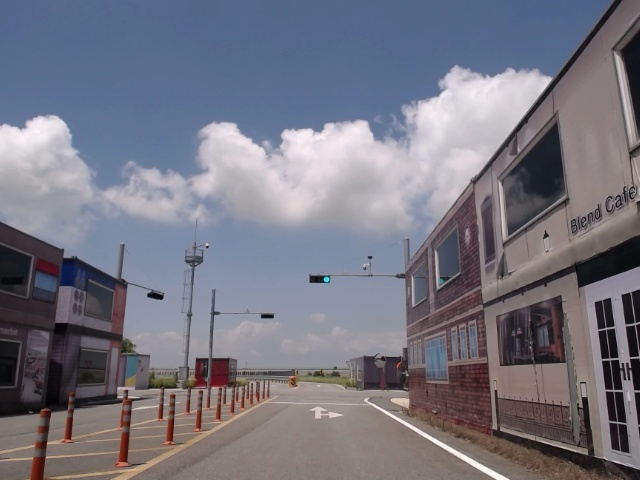green_3: (310, 276, 330, 283)
